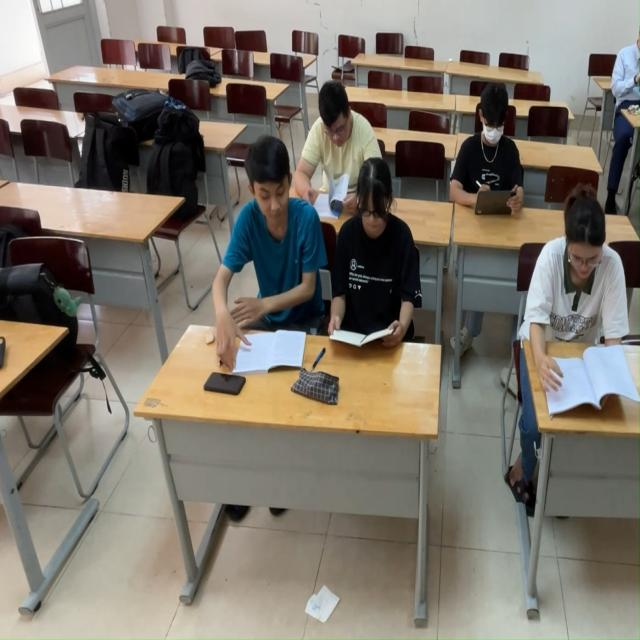read: (221, 135, 304, 392), (304, 85, 360, 199)
